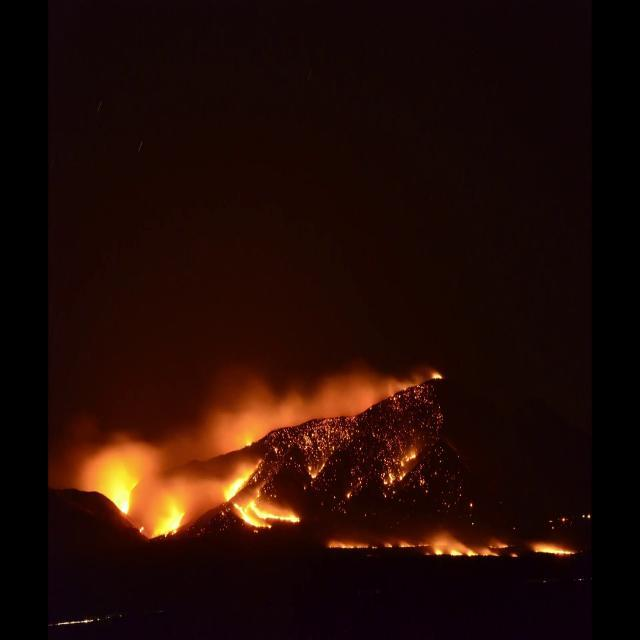Fire: (372, 384, 446, 462), (264, 414, 356, 459), (234, 501, 300, 532), (154, 505, 186, 540), (226, 467, 254, 501), (118, 475, 139, 515), (534, 544, 575, 556), (382, 470, 405, 484), (310, 460, 326, 480), (328, 540, 367, 548), (398, 540, 431, 548), (400, 452, 416, 466), (448, 548, 464, 558), (432, 370, 442, 380), (435, 546, 443, 556), (468, 549, 478, 556), (499, 542, 507, 549), (386, 542, 392, 548), (247, 439, 252, 446)
